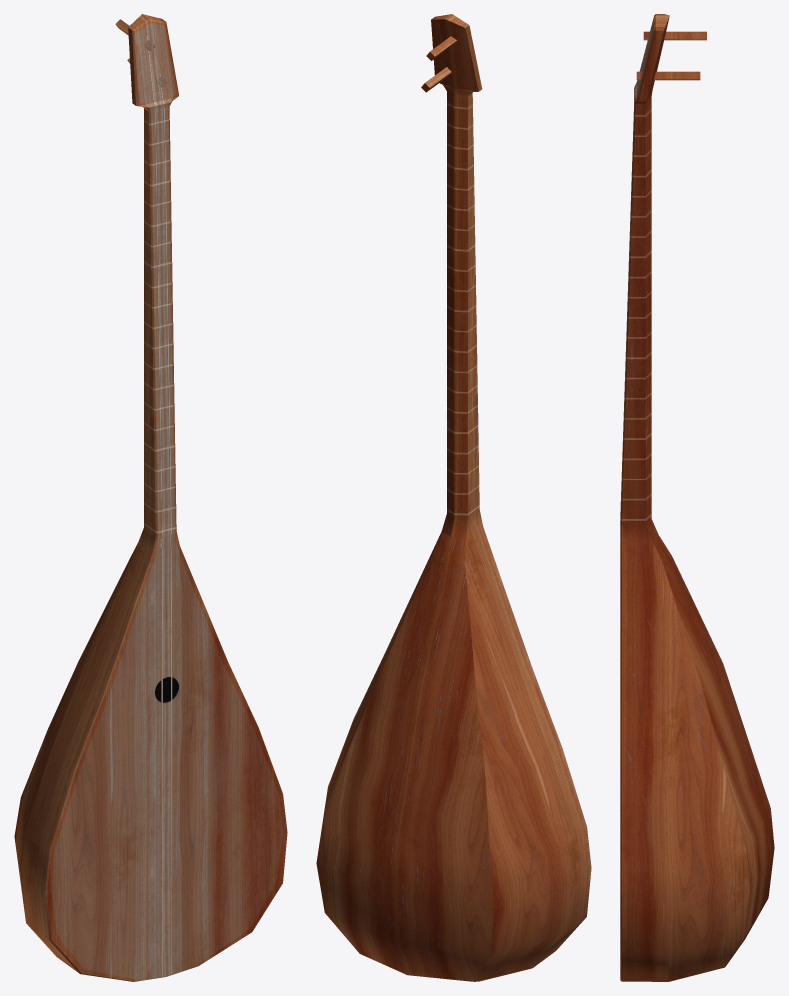
File: dombyra.fbx
3 views of the same model, side by side, from view 1: azimuth 30°, elevation 25°; view 2: azimuth 150°, elevation 25°; view 3: azimuth 270°, elevation 25° (orthographic).
Parts seen in each view (by area): view 1: dombyra_geo; view 2: dombyra_geo; view 3: dombyra_geo.
Boxes of the visible parts, left/top/right/bottom form: dombyra_geo: left=14, top=14, right=287, bottom=981; dombyra_geo: left=316, top=14, right=591, bottom=981; dombyra_geo: left=620, top=14, right=774, bottom=981.
Size of the model in its own units: 3.24 by 12.13 by 1.78.
1 material, 1 textured.
